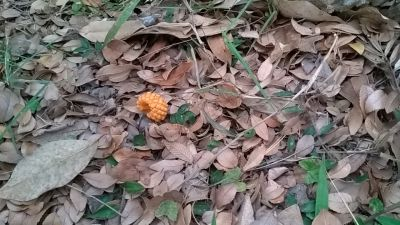eggs: (135, 92, 170, 122)
